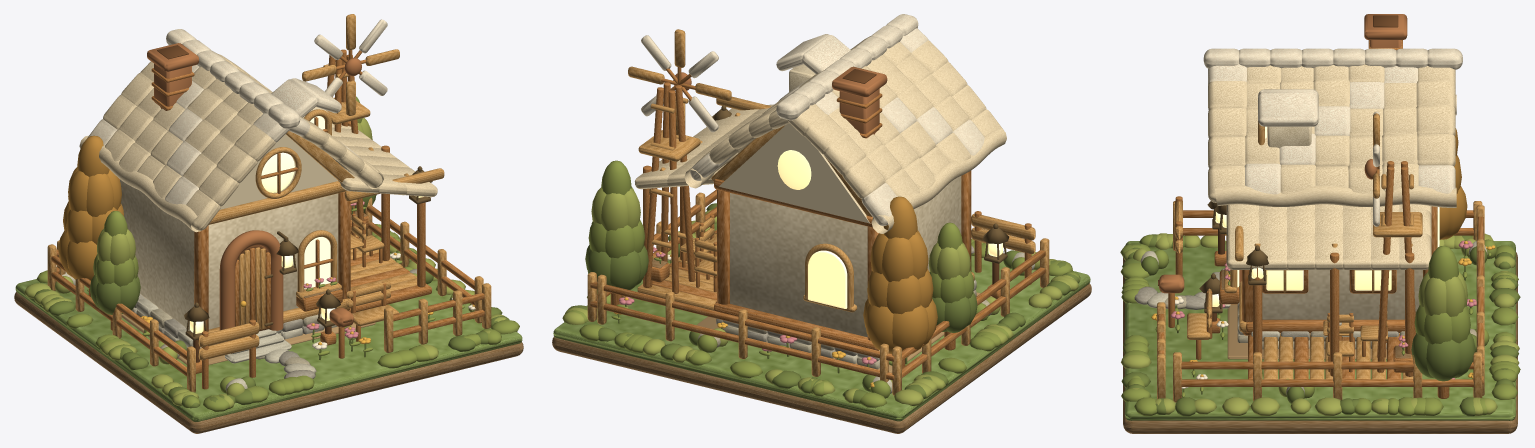
The model's file is cozy-house.glb.
The picture shows the model from 3 angles, left to right: view 1: azimuth 30°, elevation 25°; view 2: azimuth 150°, elevation 25°; view 3: azimuth 270°, elevation 25°; orthographic projection. The views are drawn at different scales.
Parts seen in each view (by area): view 1: Surface_Felt cream, Surface_Golden end grain, Surface_Honey wood, Surface_Warm lime plaster, Surface_Moss lawn, Surface_Felt highlight, Surface_Ochre earth, Surface_Foliage 1, Surface_Foliage 3, Surface_Terracotta, Surface_Foliage 2, Surface_Foliage 0 (+6 smaller); view 2: Surface_Felt cream, Surface_Warm lime plaster, Surface_Honey wood, Surface_Moss lawn, Surface_Golden end grain, Surface_Felt highlight, Surface_Foliage 1, Surface_Foliage 3, Surface_Ochre earth, Surface_Foliage 2, Surface_Foliage 0, Surface_Warm window (+4 smaller); view 3: Surface_Felt cream, Surface_Honey wood, Surface_Moss lawn, Surface_Felt highlight, Surface_Golden end grain, Surface_Foliage 1, Surface_Foliage 2, Surface_Ochre earth, Surface_Foliage 0, Surface_Warm lime plaster, Surface_Warm window, Surface_Terracotta (+8 smaller).
Boxes of the visible parts, left/top/right/bottom form: Surface_Felt cream: left=79, top=45, right=437, bottom=232; Surface_Golden end grain: left=47, top=62, right=491, bottom=392; Surface_Honey wood: left=51, top=49, right=484, bottom=389; Surface_Warm lime plaster: left=120, top=106, right=338, bottom=329; Surface_Moss lawn: left=15, top=253, right=522, bottom=421; Surface_Felt highlight: left=87, top=29, right=362, bottom=204; Surface_Ochre earth: left=14, top=210, right=523, bottom=433; Surface_Foliage 1: left=36, top=96, right=519, bottom=411; Surface_Foliage 3: left=58, top=135, right=123, bottom=280; Surface_Terracotta: left=147, top=43, right=353, bottom=330; Surface_Foliage 2: left=24, top=118, right=506, bottom=408; Surface_Foliage 0: left=34, top=194, right=509, bottom=407; Surface_Felt cream: left=634, top=36, right=1006, bottom=233; Surface_Warm lime plaster: left=719, top=64, right=961, bottom=337; Surface_Honey wood: left=590, top=82, right=1045, bottom=380; Surface_Moss lawn: left=553, top=223, right=1090, bottom=421; Surface_Golden end grain: left=587, top=96, right=1049, bottom=395; Surface_Felt highlight: left=690, top=14, right=984, bottom=225; Surface_Foliage 1: left=565, top=160, right=1080, bottom=407; Surface_Foliage 3: left=863, top=196, right=937, bottom=353; Surface_Ochre earth: left=552, top=258, right=1091, bottom=433; Surface_Foliage 2: left=562, top=187, right=1078, bottom=405; Surface_Foliage 0: left=568, top=203, right=1080, bottom=403; Surface_Warm window: left=777, top=150, right=1002, bottom=308; Surface_Felt cream: left=1208, top=64, right=1456, bottom=269; Surface_Honey wood: left=1158, top=40, right=1483, bottom=398; Surface_Moss lawn: left=1125, top=241, right=1515, bottom=420; Surface_Felt highlight: left=1203, top=48, right=1462, bottom=194; Surface_Golden end grain: left=1157, top=121, right=1484, bottom=402; Surface_Foliage 1: left=1120, top=234, right=1520, bottom=416; Surface_Foliage 2: left=1121, top=233, right=1519, bottom=415; Surface_Ochre earth: left=1123, top=252, right=1517, bottom=433; Surface_Foliage 0: left=1121, top=234, right=1520, bottom=416; Surface_Warm lime plaster: left=1262, top=126, right=1422, bottom=319; Surface_Warm window: left=1212, top=126, right=1439, bottom=306; Surface_Terracotta: left=1159, top=14, right=1407, bottom=293.
Bounding box in the file's own units: 7.39 × 5.68 × 7.
22 materials, 10 textured.
